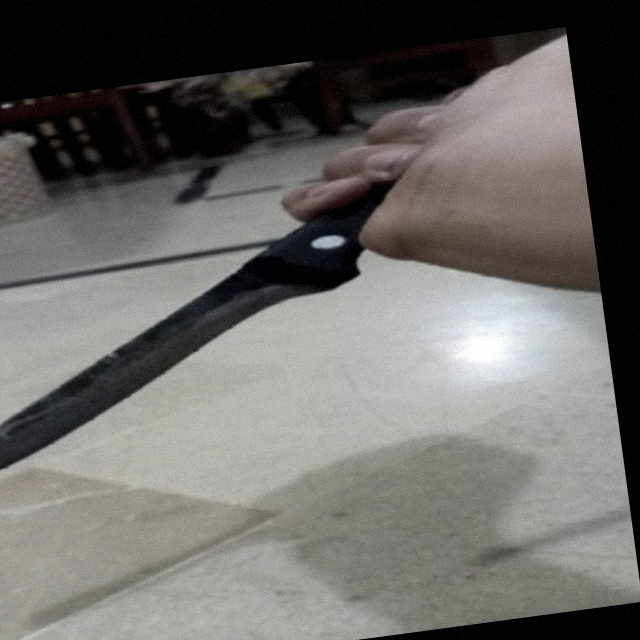Sharp-Object: (0, 185, 428, 475)
